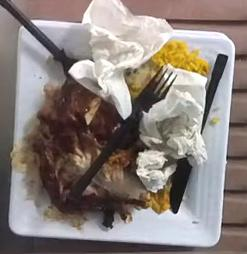chicken: (27, 79, 101, 202), (81, 157, 150, 222)
rice: (150, 39, 208, 74), (150, 189, 170, 214)
